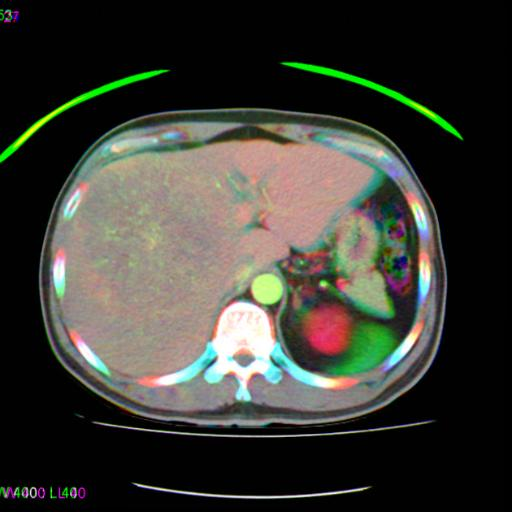Tumor: (116, 191, 209, 297)
